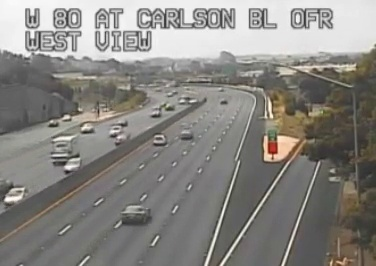car: (120, 205, 149, 223), (153, 135, 167, 146)
